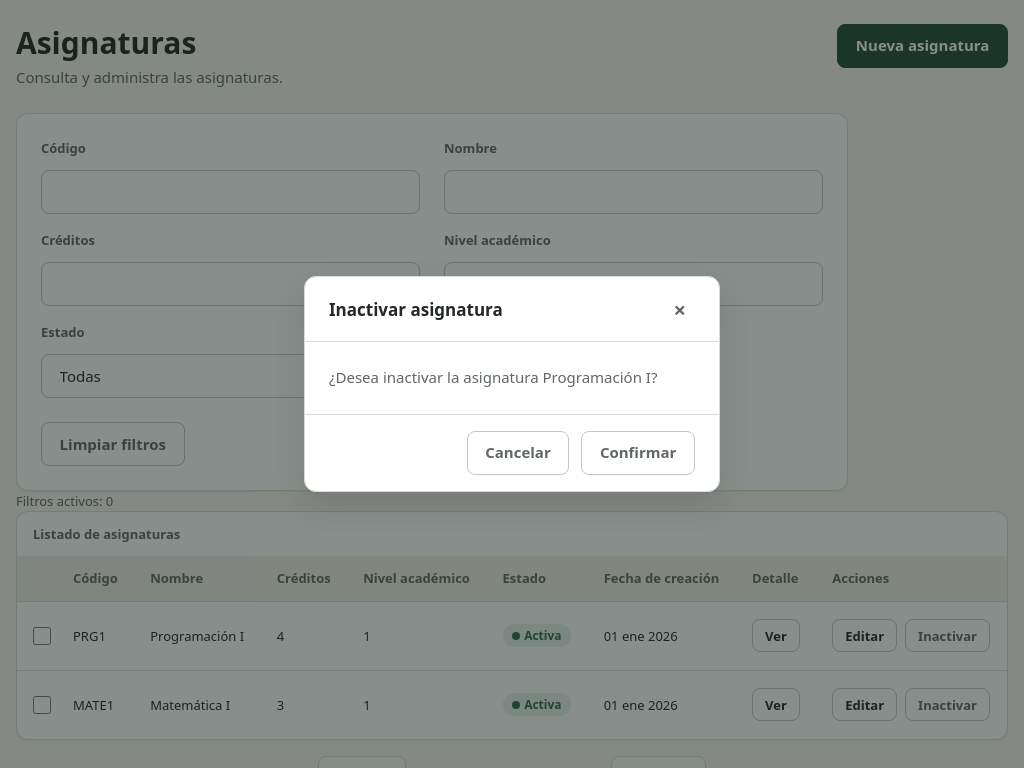
Test: ListadoAsignaturasComponent › muestra error de operación al inactivar
What coordinates should you click on to do the following:
click the button "Confirmar"
I would click on:
 (638, 453)
Its box is [581,431,695,475].
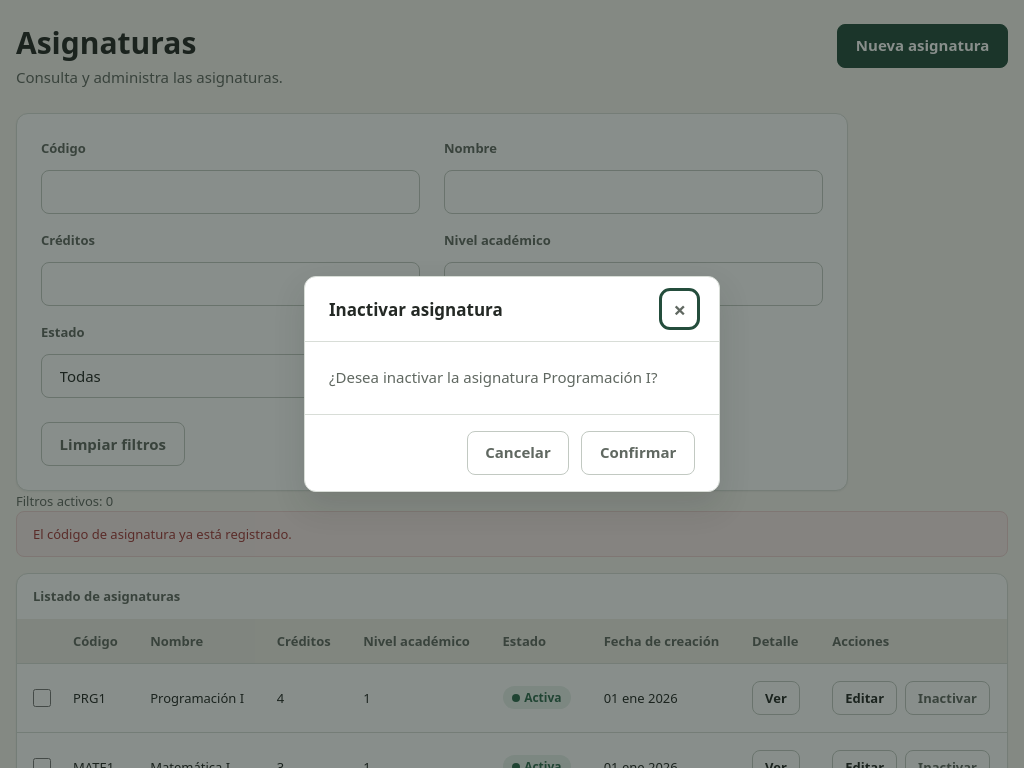
Result: the text "El código de asignatura ya está registrado." is shown at [16,511,1008,557]
